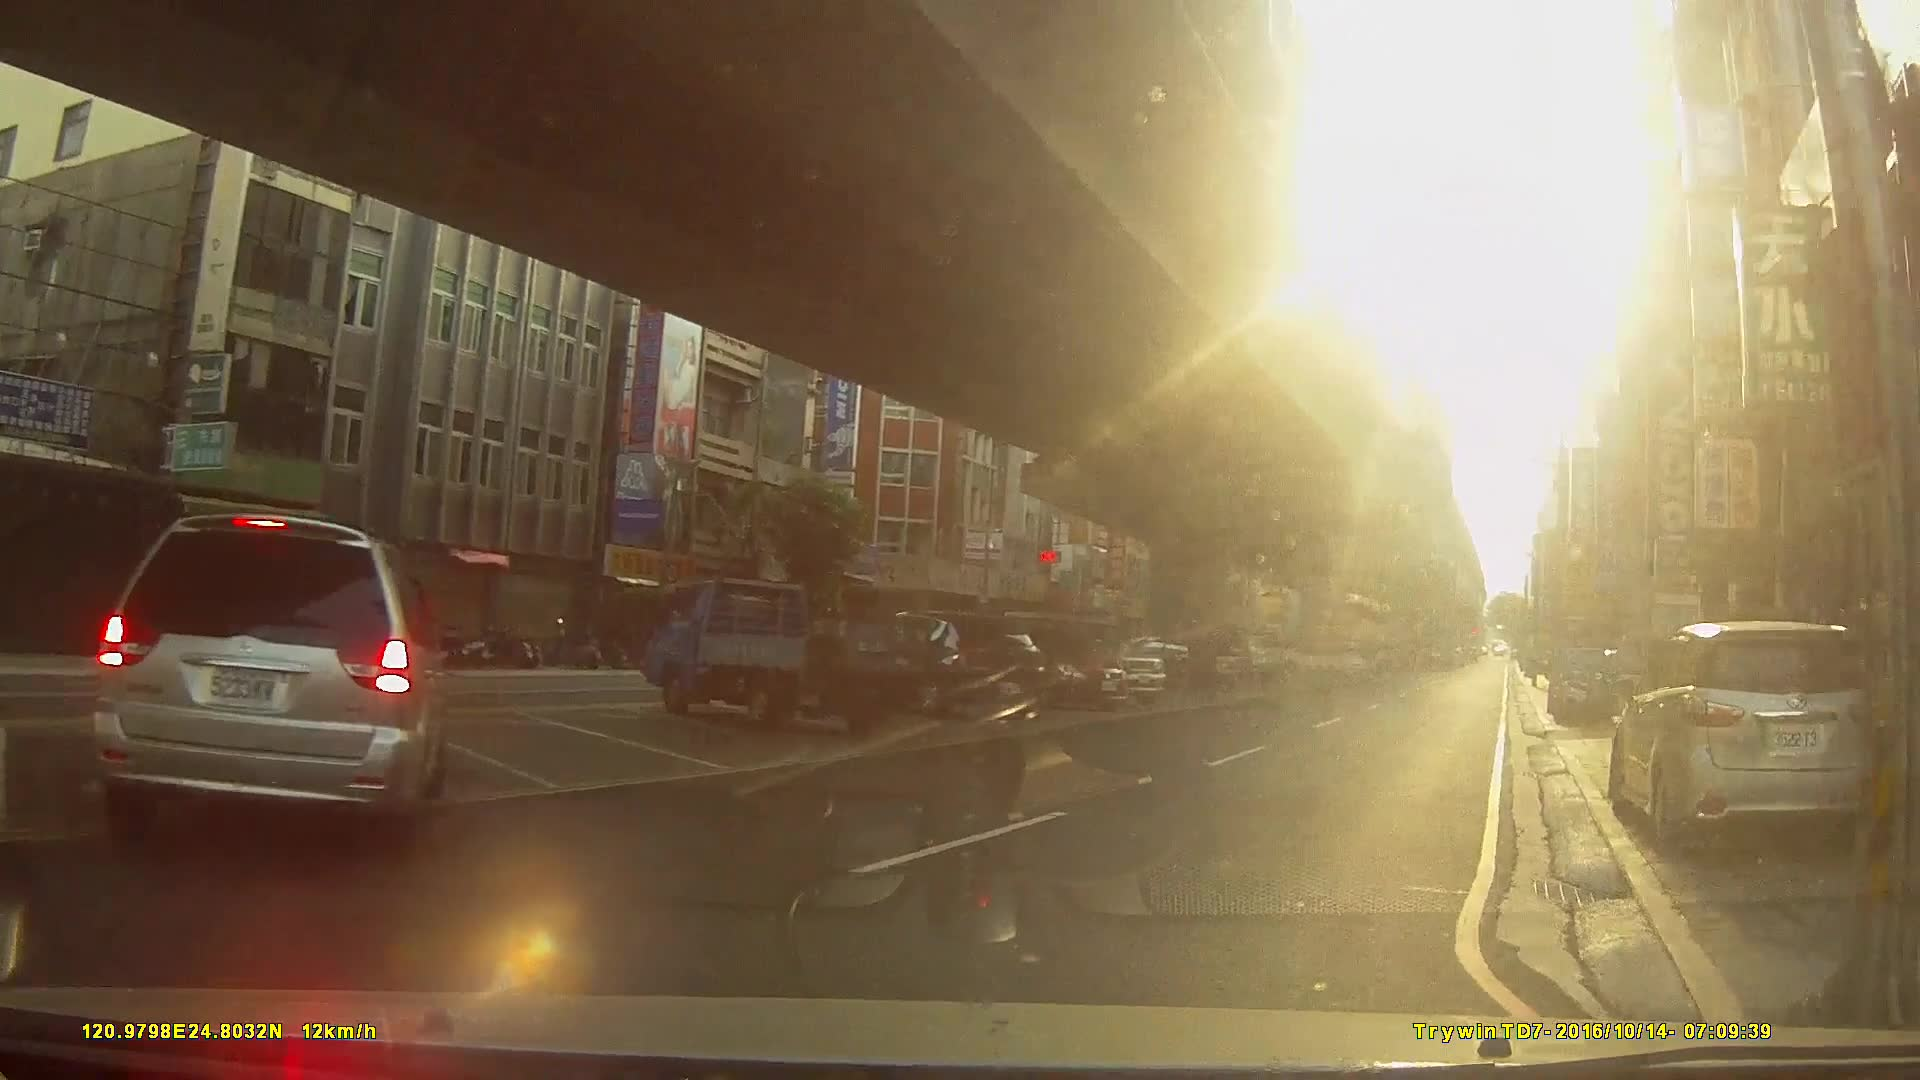vehicle: (92, 512, 450, 851), (1605, 615, 1899, 855), (640, 574, 928, 731), (857, 607, 1048, 719), (965, 617, 1133, 705), (1091, 632, 1221, 688)
